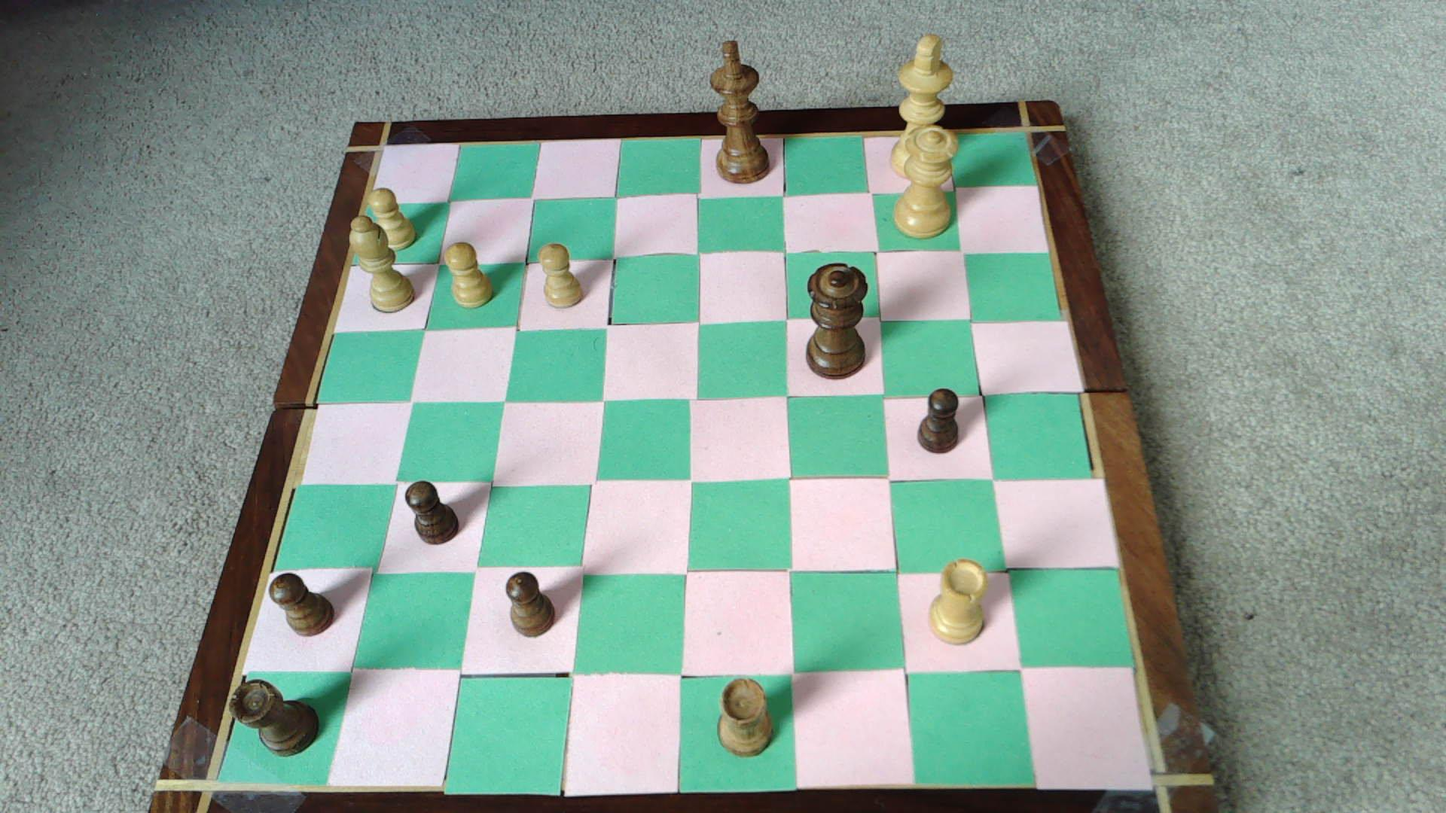dark_piece: (710, 41, 769, 183), (807, 263, 867, 377), (231, 680, 318, 755), (718, 676, 773, 755), (270, 572, 334, 635), (505, 571, 555, 636), (406, 481, 458, 543), (918, 388, 959, 452)
white_piece: (890, 35, 955, 176), (893, 128, 958, 237), (349, 213, 416, 313), (929, 558, 986, 643), (365, 188, 417, 250), (445, 242, 493, 307), (539, 243, 585, 307)
